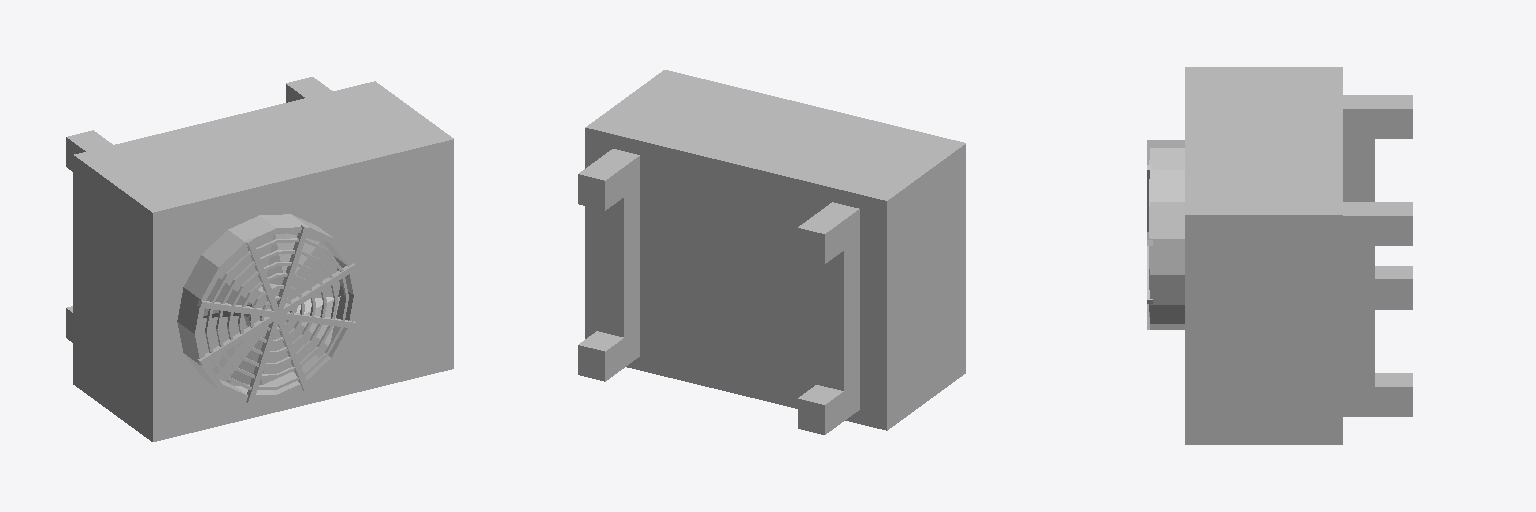
Rendered from Air Conditioner 2 .obj.
3 views of the same model, side by side, from view 1: azimuth 30°, elevation 25°; view 2: azimuth 150°, elevation 25°; view 3: azimuth 270°, elevation 25° (orthographic).
Parts seen in each view (by area): view 1: Air_Conditioner2, Element_a1; view 2: Air_Conditioner2; view 3: Air_Conditioner2.
Boxes of the visible parts, x1,y1,x2,y2 form: Air_Conditioner2: [66, 77, 453, 441]; Element_a1: [203, 233, 340, 384]; Air_Conditioner2: [578, 70, 965, 434]; Air_Conditioner2: [1147, 67, 1412, 444].
Size of the model in its own units: 550 by 400 by 420.